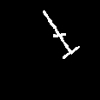double_crochet: (43, 11, 79, 58)
